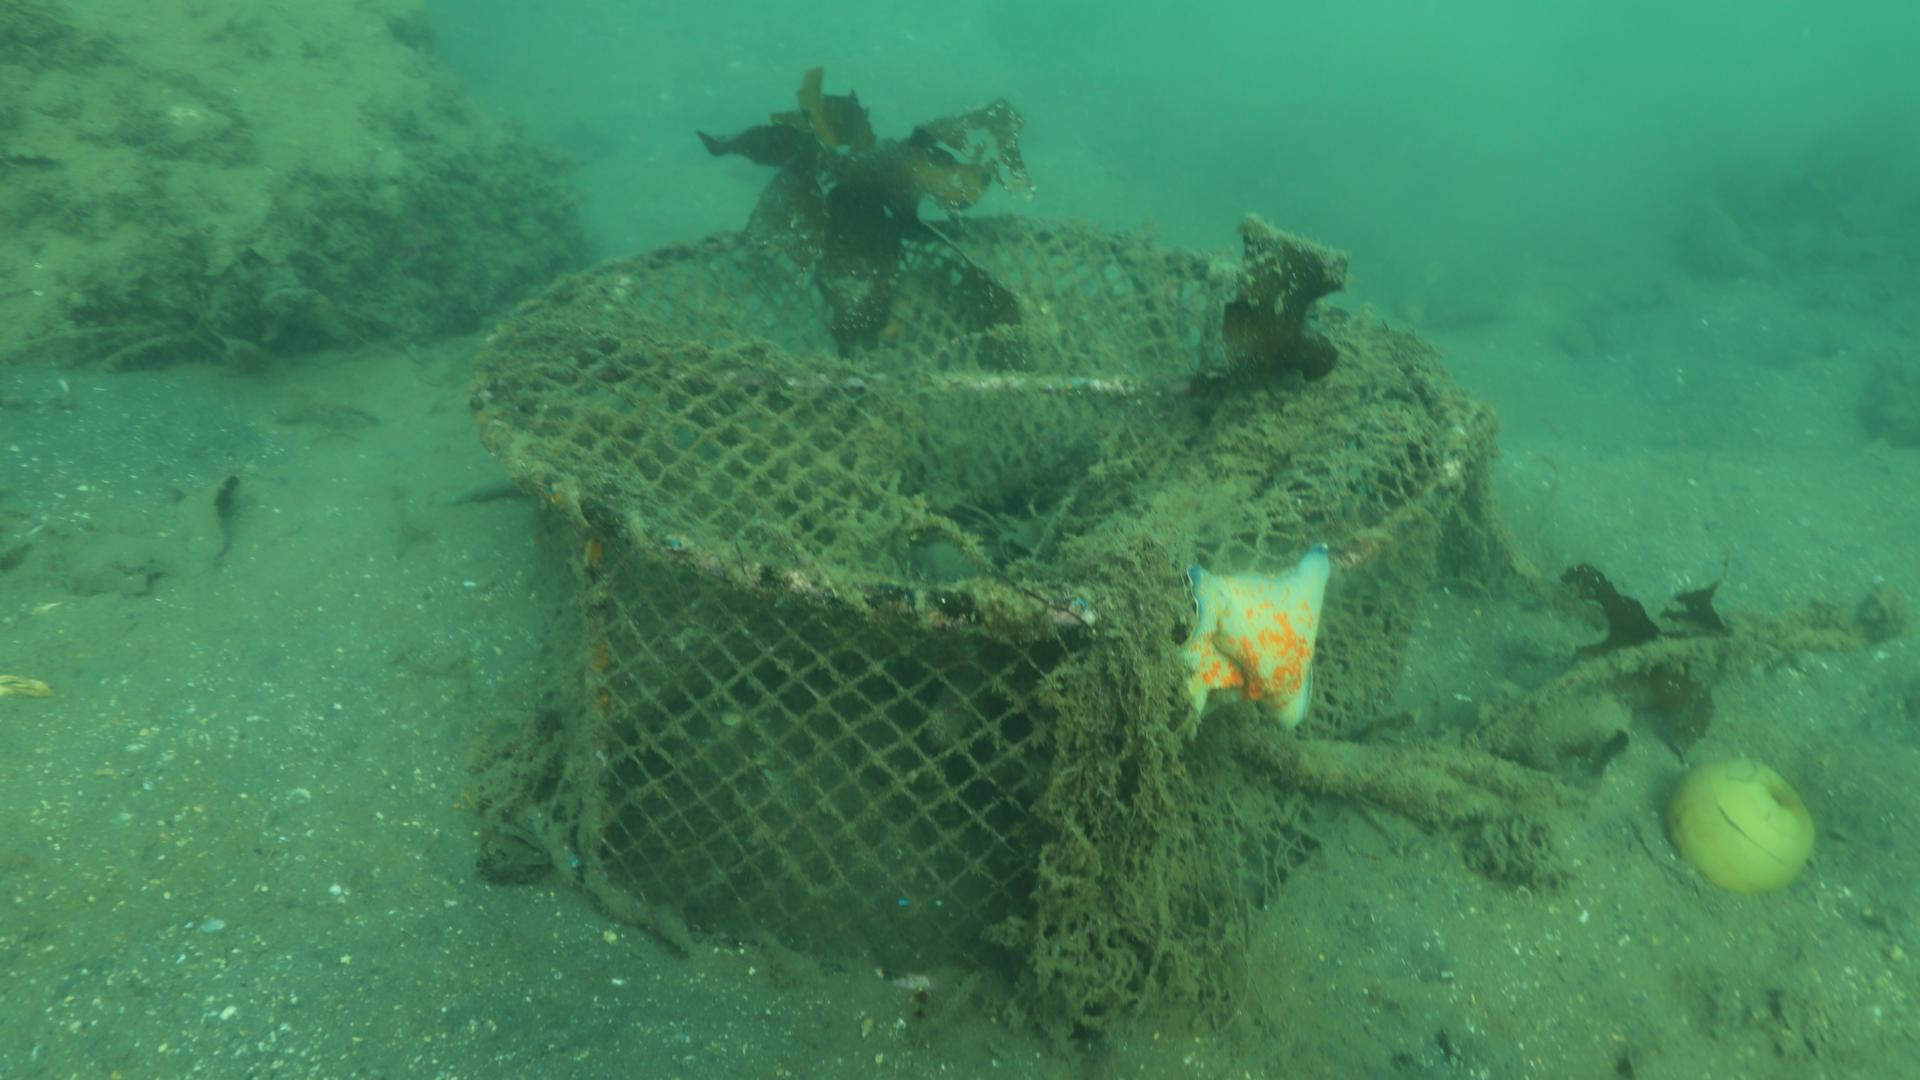circular fish trap: (462, 204, 1487, 1019)
